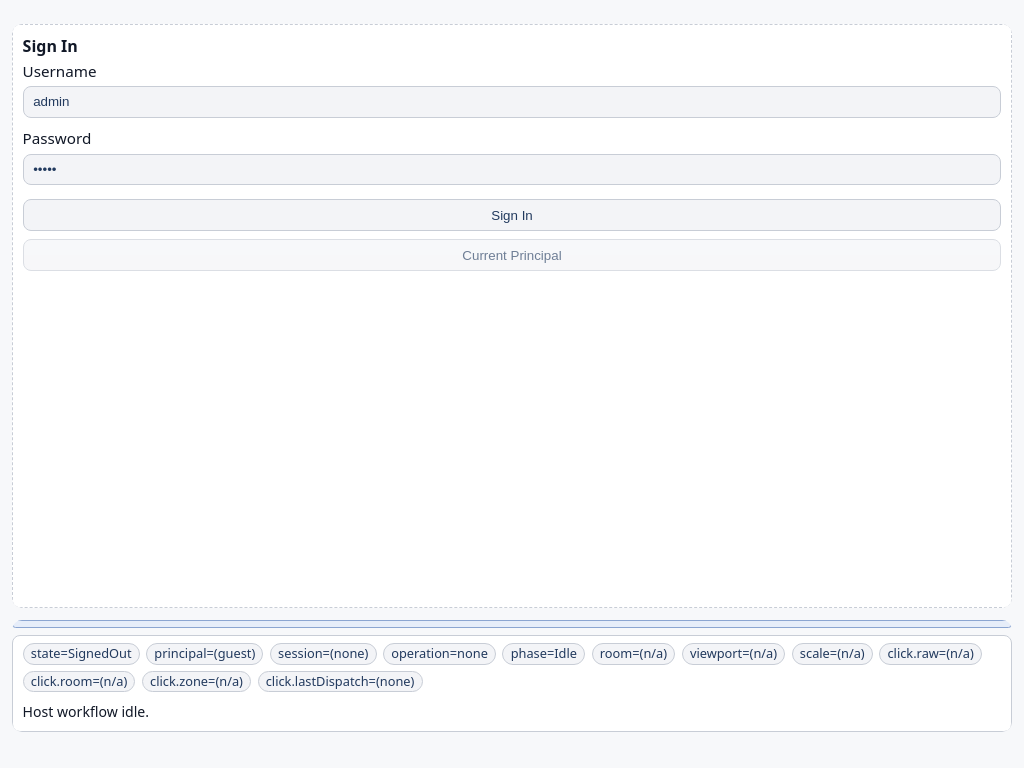
Test: App override behavior › runs host sign-in discovery and start-session flow
Click the button "Sign In" at point(512, 215), box [23, 199, 1001, 231]
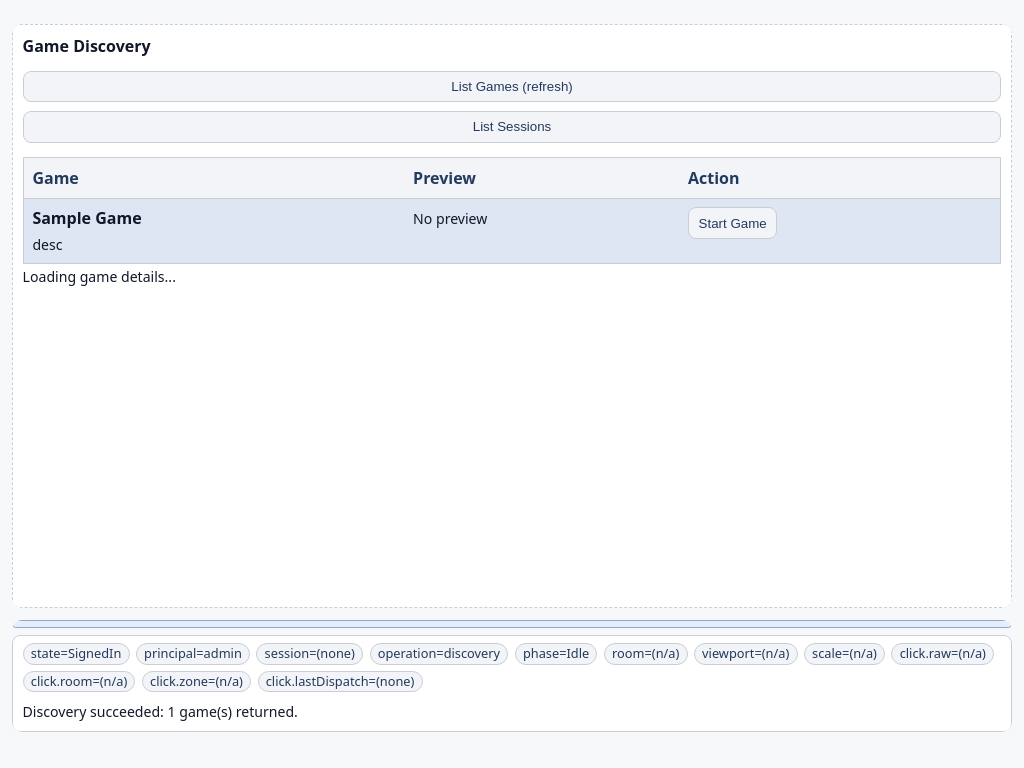
Click the button "Start Game" at point(733, 223), box [688, 207, 777, 239]
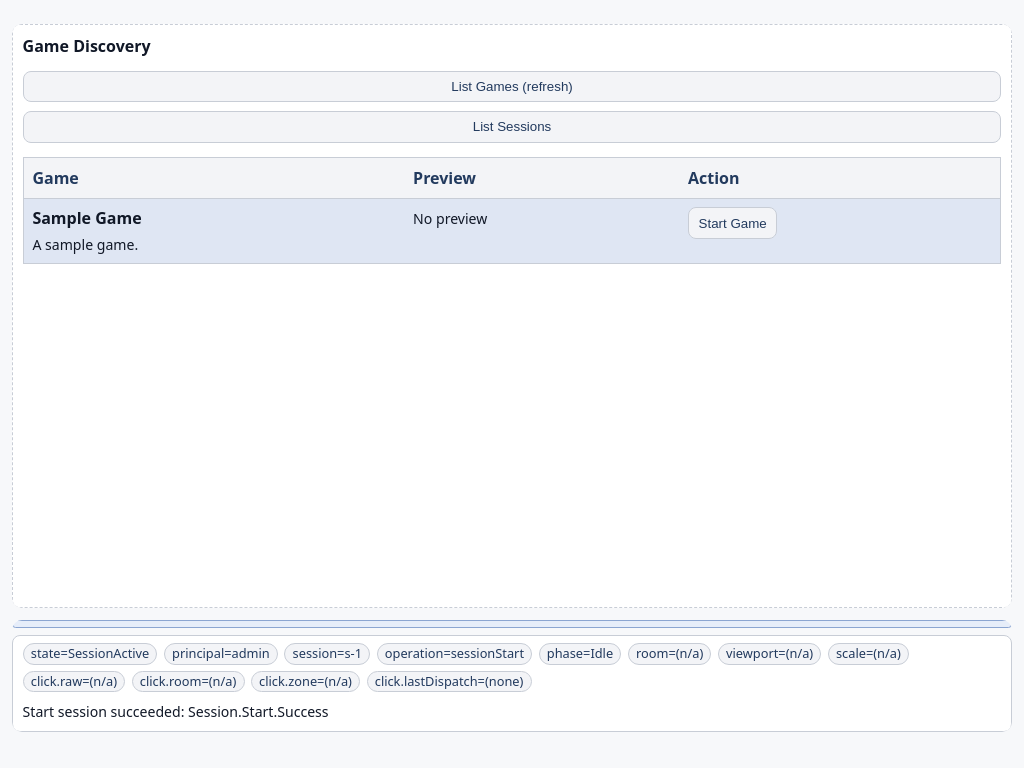
Check: the text "session=s-1" is shown, box [284, 643, 370, 664]
Check: the text "Start session succeeded: Session.Start.Success" is shown, box [23, 702, 329, 721]
